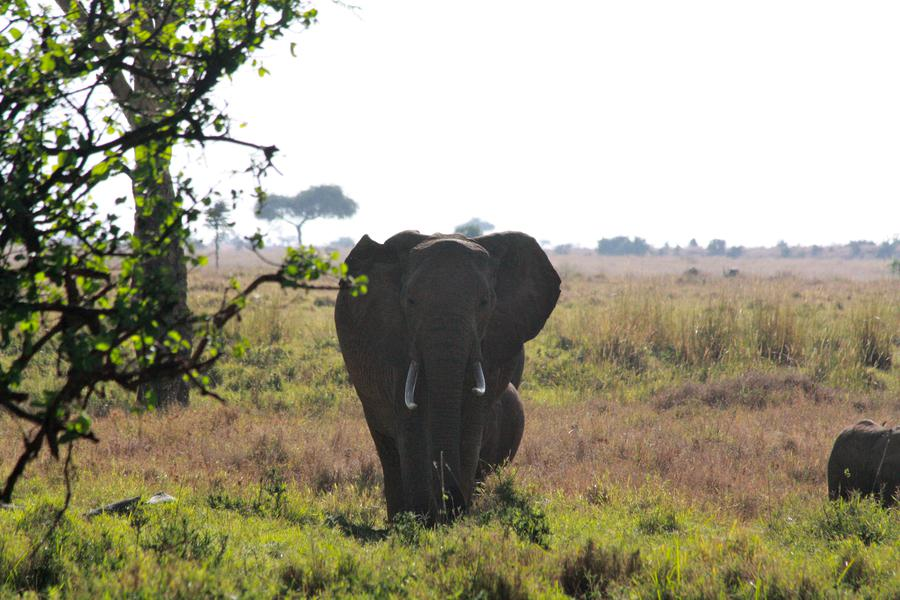elephant: (330, 208, 544, 410)
